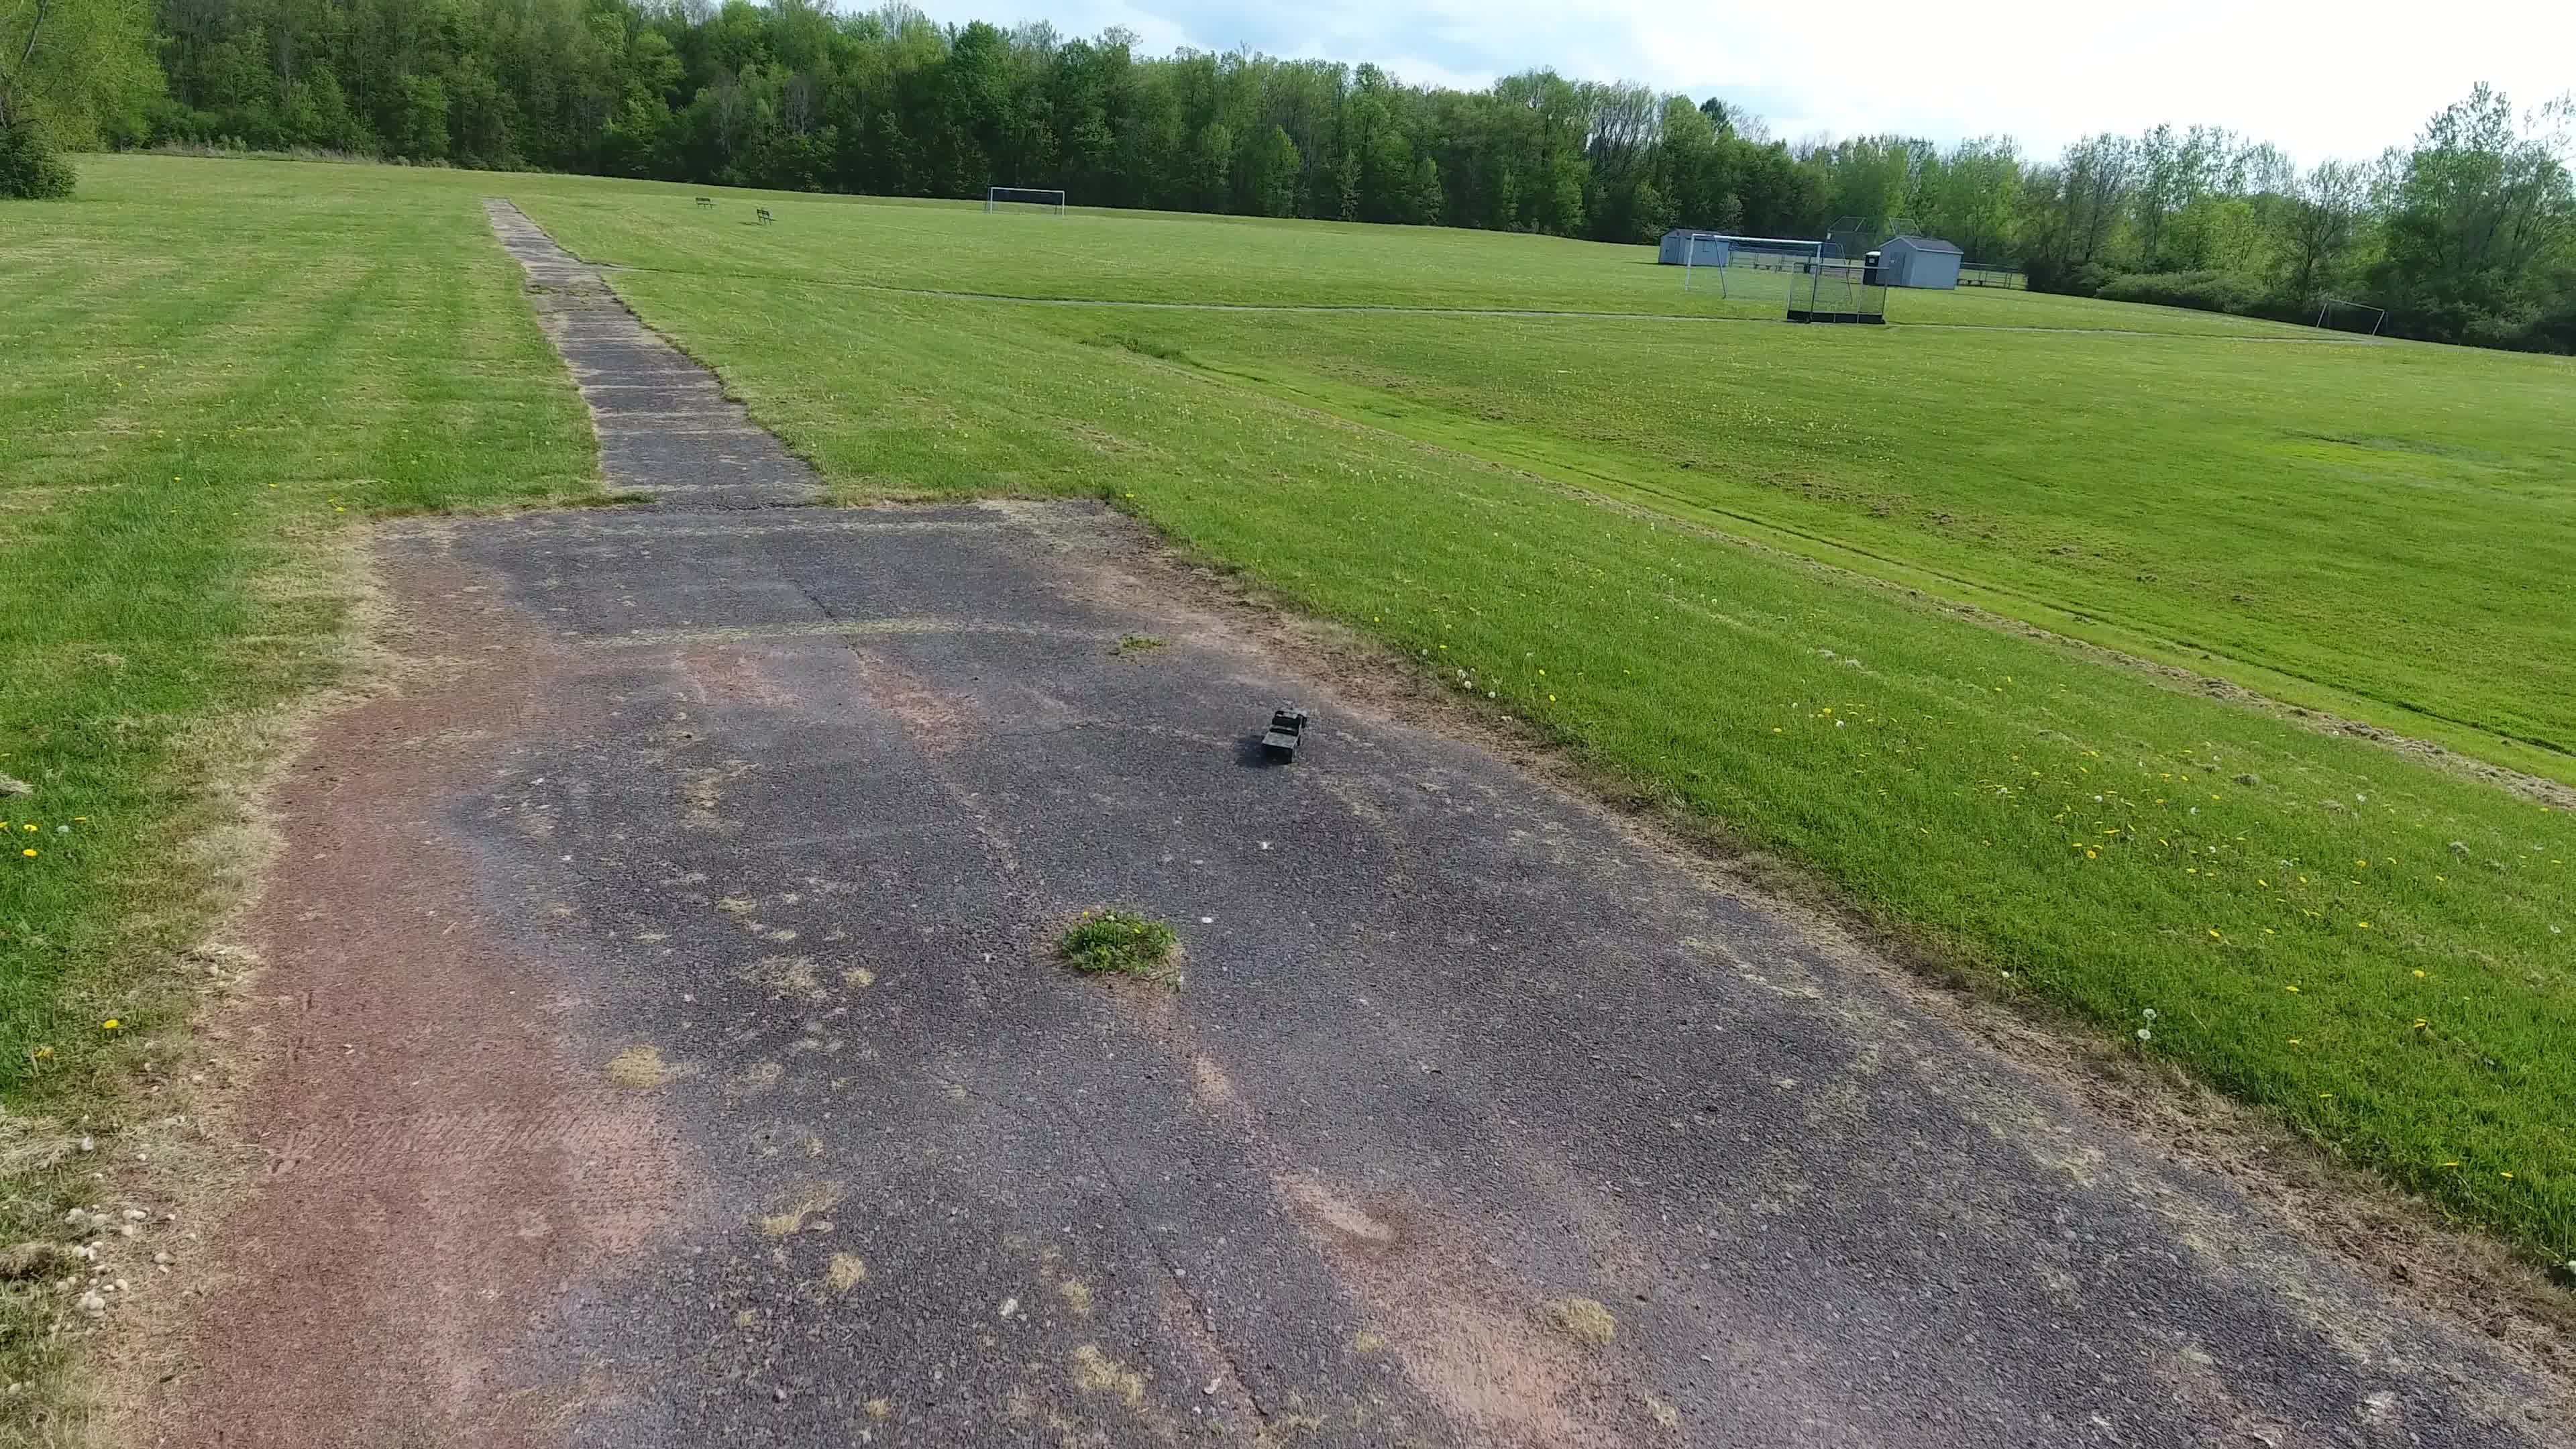transporter9_camo: (1254, 706, 1309, 766)
